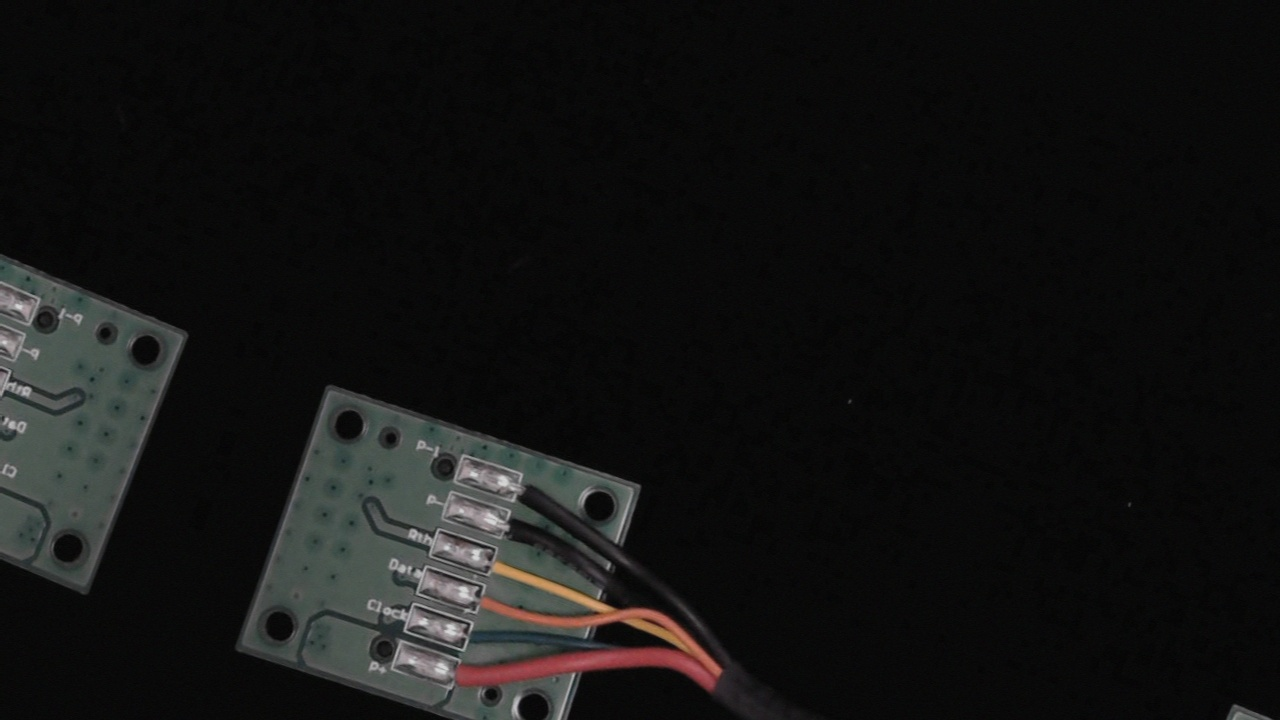Black: (486, 505, 560, 556)
Black1: (497, 464, 571, 518)
Green: (446, 616, 510, 665)
Orange: (457, 578, 523, 628)
Red: (434, 652, 500, 702)
Yellow: (470, 543, 540, 591)
